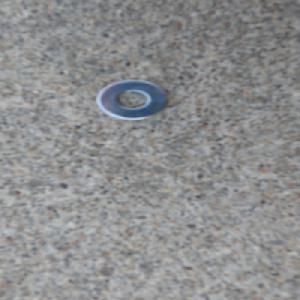Washer: (91, 76, 172, 124)
